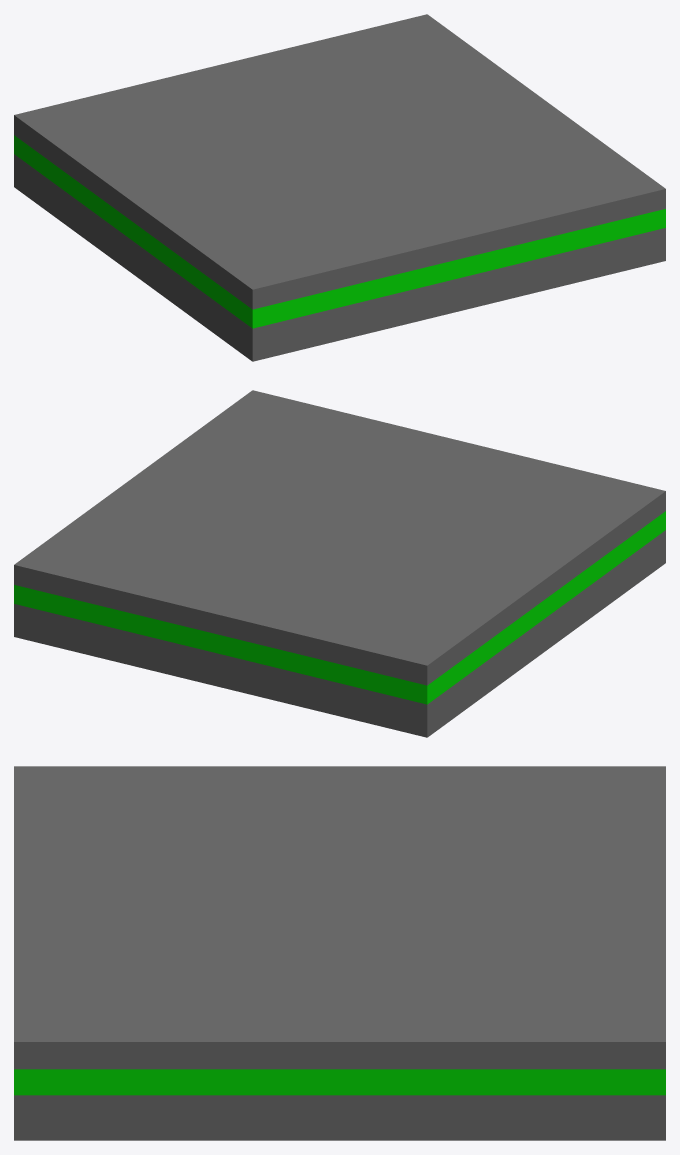
The model's file is Sm_BigPlatformBase1.fbx.
3 views of the same model, one above another, from view 1: azimuth 30°, elevation 25°; view 2: azimuth 150°, elevation 25°; view 3: azimuth 270°, elevation 25° (orthographic). The views are drawn at different scales.
Parts seen in each view (by area): view 1: pCube1; view 2: pCube1; view 3: pCube1.
Boxes of the visible parts, x1,y1,x2,y2 form: pCube1: (14,14,665,361); pCube1: (14,390,665,737); pCube1: (14,766,665,1140).
Bounding box in the file's own units: 300 × 50 × 300.
